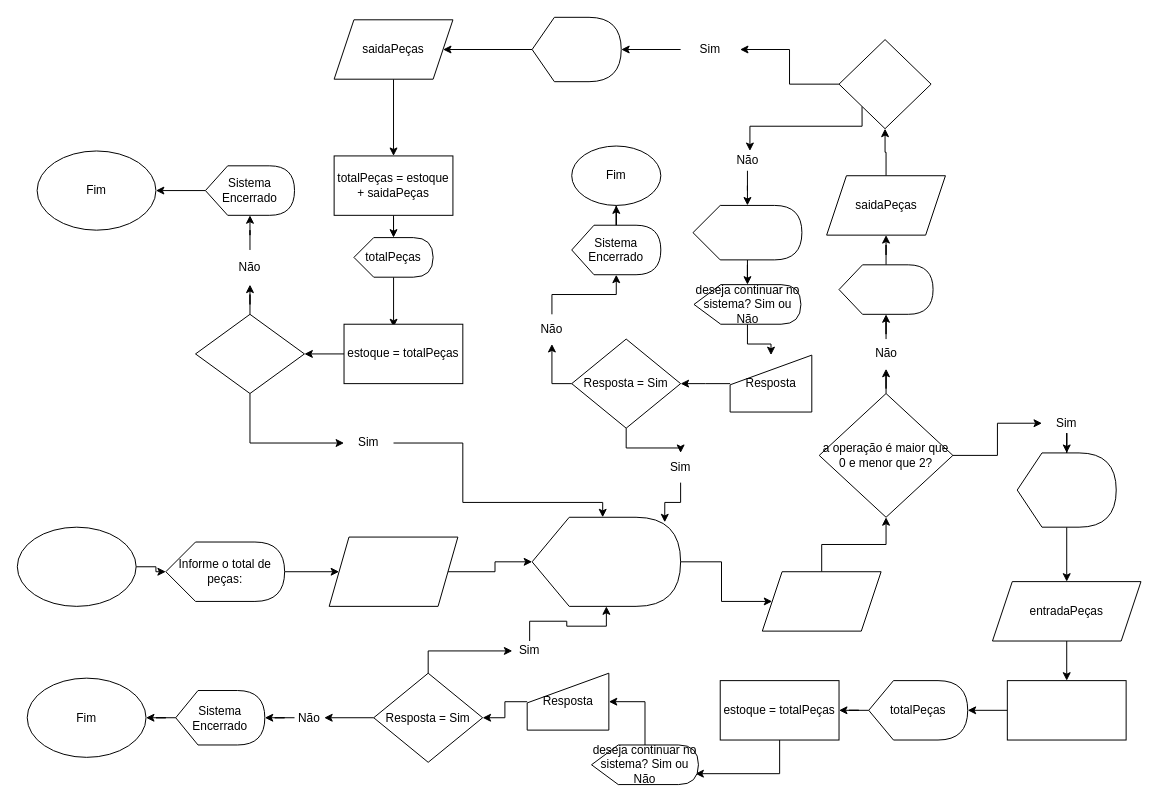
Some shapes in this 1158 by 803 pixel diagram are drawn without their labels. Each missing label, with the centre of its shape:
deseja continuar a entrada de dados?: pixel 249 353
estoque: pixel 393 571
Informe a saida de peças:: pixel 576 49
Informe entrada de peças:: pixel 1066 489
Informe o tipo da operação 1 para compra, e 2 para venda:: pixel 606 561
Informe saida de peças:: pixel 885 289
Inicio: pixel 76 566
operação: pixel 821 601
saidaPeças menor ou igual a estoque ?: pixel 884 84
Saldo insuficiente: pixel 747 232
totalPeças = estoque + entradaPeças: pixel 1066 710
